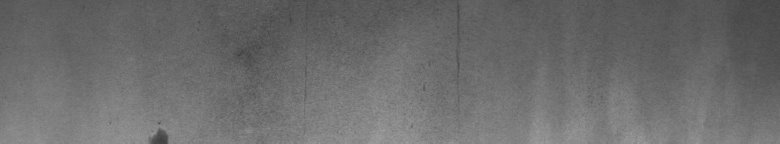fi: (151, 121, 172, 136)
